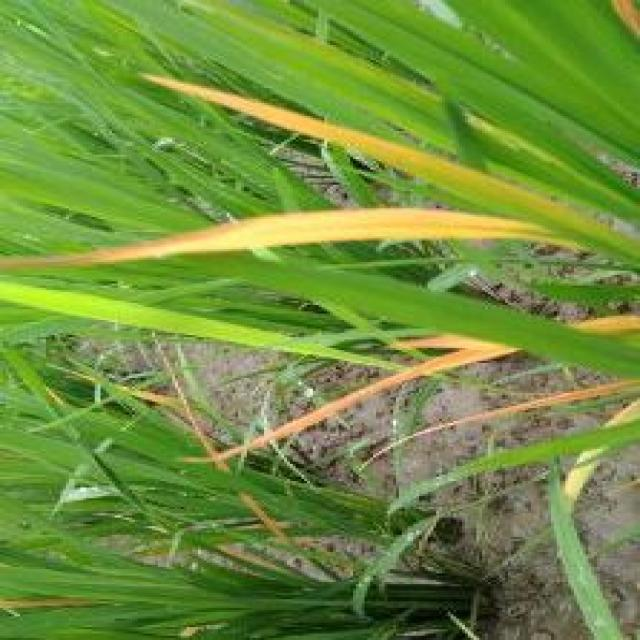Tungro: (201, 309, 640, 464), (52, 195, 578, 286), (154, 60, 470, 189)
